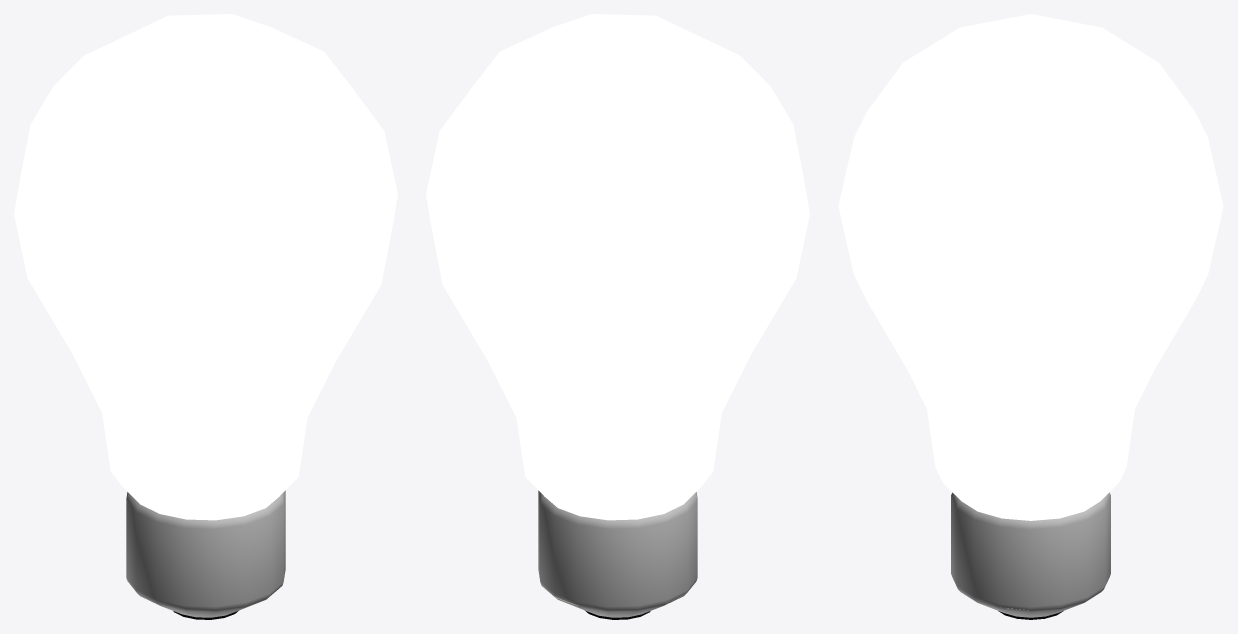
The picture shows the model from 3 angles, left to right: view 1: azimuth 30°, elevation 25°; view 2: azimuth 150°, elevation 25°; view 3: azimuth 270°, elevation 25°; orthographic projection.
Parts seen in each view (by area): view 1: #LMP0003_Light_Bulb_Low_Poly; view 2: #LMP0003_Light_Bulb_Low_Poly; view 3: #LMP0003_Light_Bulb_Low_Poly.
Boxes of the visible parts, x1,y1,x2,y2 form: #LMP0003_Light_Bulb_Low_Poly: (14, 14, 397, 619); #LMP0003_Light_Bulb_Low_Poly: (426, 14, 809, 619); #LMP0003_Light_Bulb_Low_Poly: (838, 14, 1223, 619).
Bounding box in the file's own units: 0.0753 × 0.1256 × 0.0753.
Materials: 1 (1 with a texture image).
